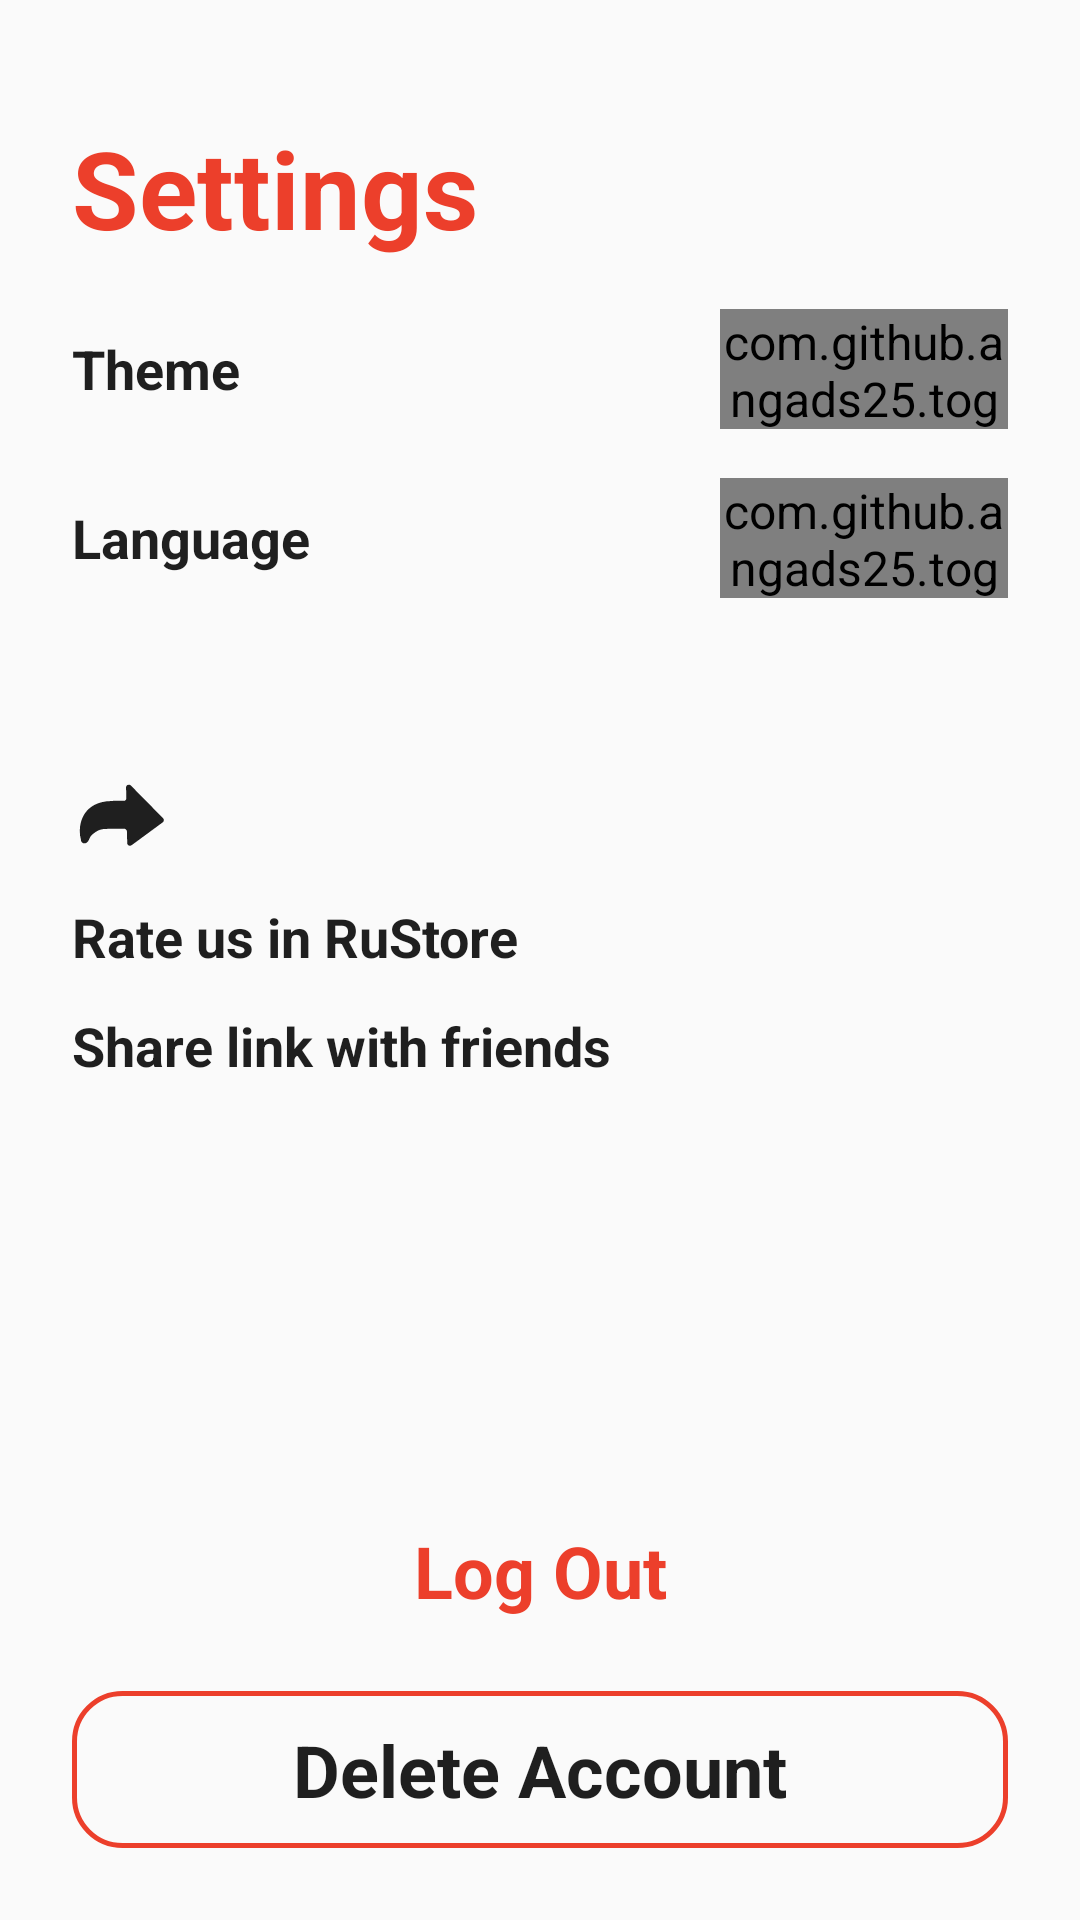

Locate icon controls on the screen. Image size 1080px×1920px, boxes as [x1, y1, x2, y2].
share arrow: [79, 784, 164, 846]
